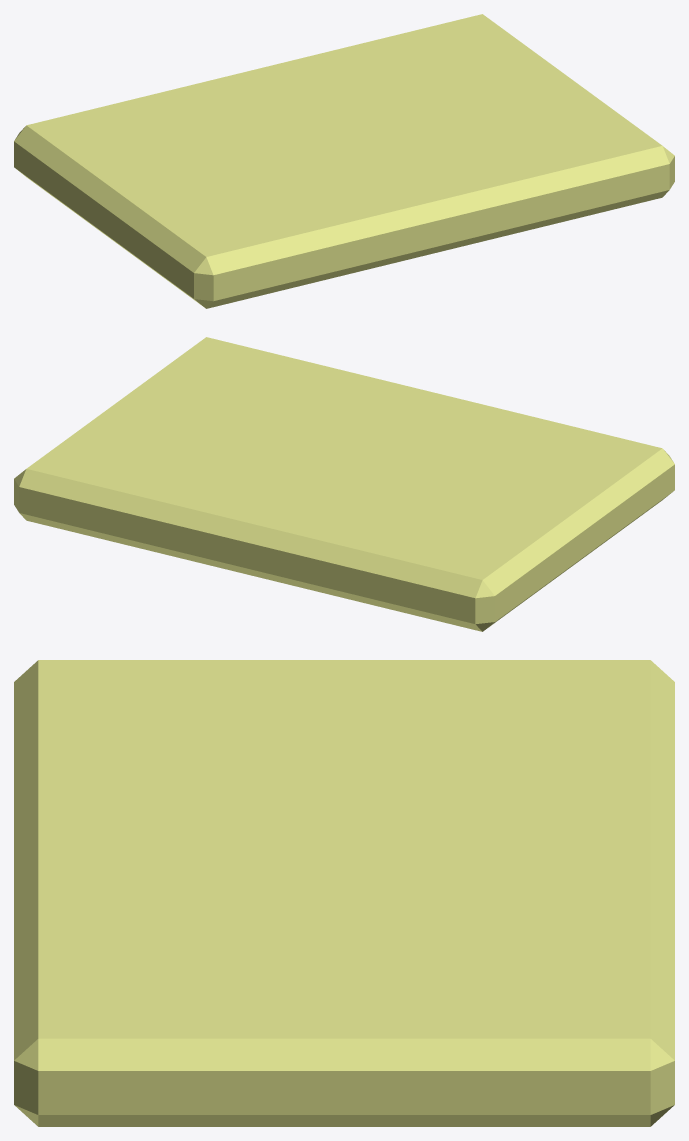
Rendered from butter.fbx.
The picture shows the model from 3 angles, top to bottom: view 1: azimuth 30°, elevation 25°; view 2: azimuth 150°, elevation 25°; view 3: azimuth 270°, elevation 25°; orthographic projection. The views are drawn at different scales.
Visible parts, largest first — view 1: Butter_Slice; view 2: Butter_Slice; view 3: Butter_Slice.
Part boxes in pixels (x1,y1,x2,y2): Butter_Slice: (14, 14, 674, 308); Butter_Slice: (14, 337, 674, 631); Butter_Slice: (14, 660, 674, 1126).
Size of the model in its own units: 0.2038 by 0.021 by 0.1426.
